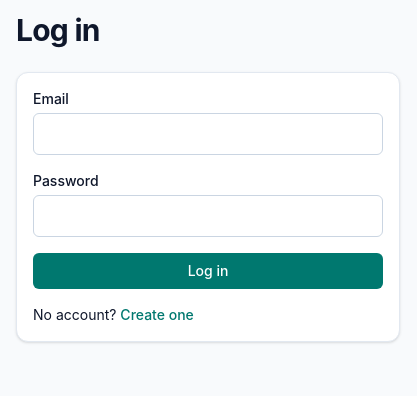
Test: auth flow › shows the server’s message on wrong credentials and stays logged out
Step 1. Type "ada@example.org" into the field labelled "Email" → (208,134), box top-left (33, 113), bottom-right (383, 155)
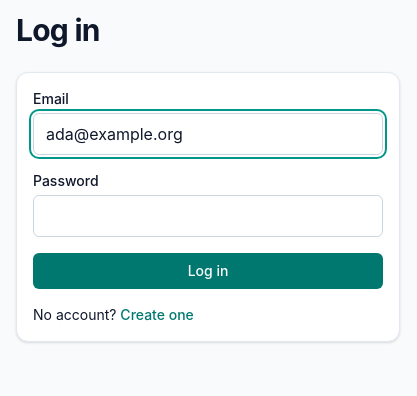
Step 2. Type "wrong" into the password field labelled "Password" → (208,216), box top-left (33, 195), bottom-right (383, 237)
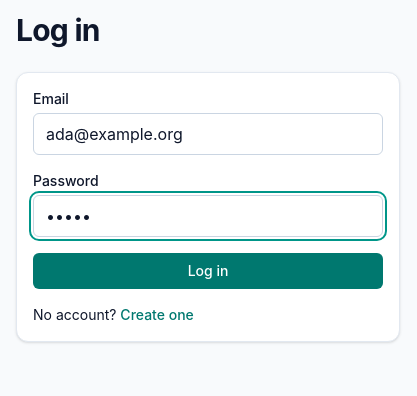
Step 3. Click the button "Log in" → (208,271), box top-left (33, 253), bottom-right (383, 289)
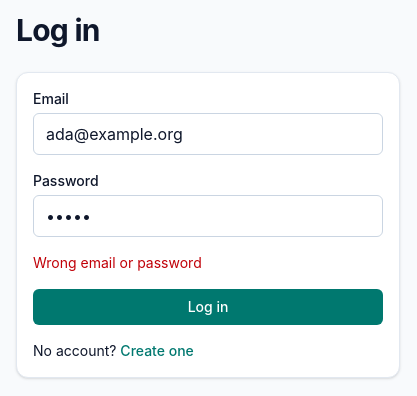
Check: the message reads "Wrong email or password", box top-left (33, 254), bottom-right (202, 271)
